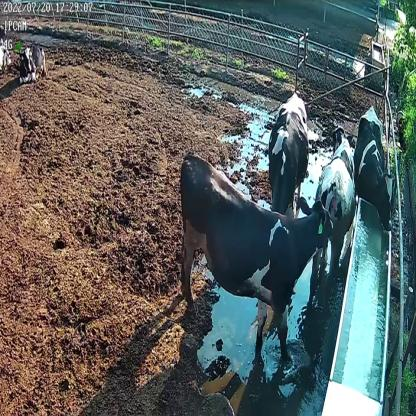cow: (175, 149, 335, 369), (309, 121, 357, 301), (353, 102, 397, 233), (267, 92, 311, 214), (18, 42, 48, 82)
